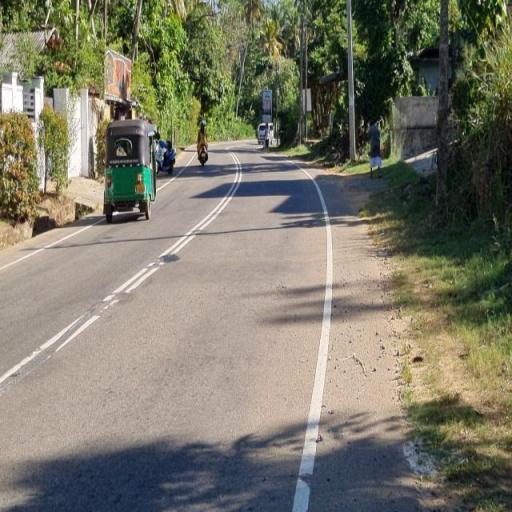double_white_line: (98, 154, 240, 307)
